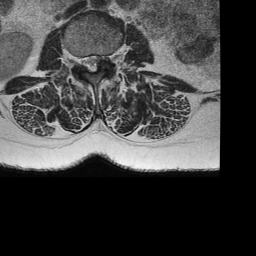CCS_normal: (89, 45, 95, 79)
LFS_stenosis: (102, 44, 109, 70)
LLS_stenosis: (95, 44, 102, 72)
RFS_normal: (75, 46, 82, 75)
RLS_normal: (82, 47, 89, 74)
